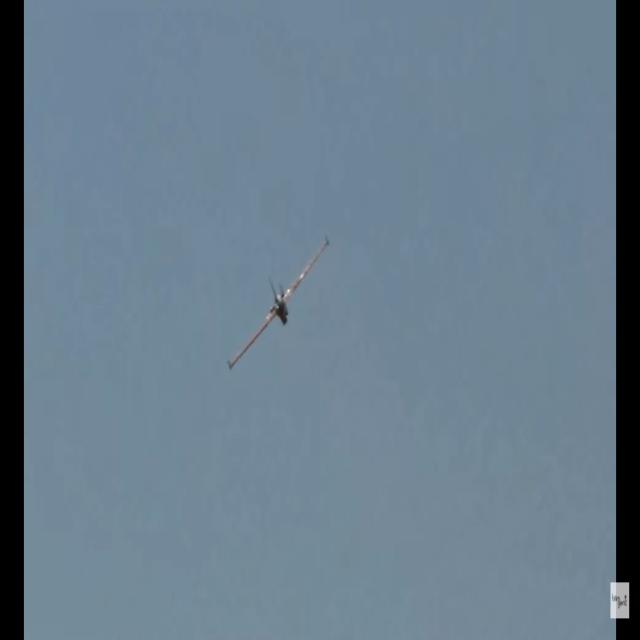iha: (256, 235, 299, 368)
